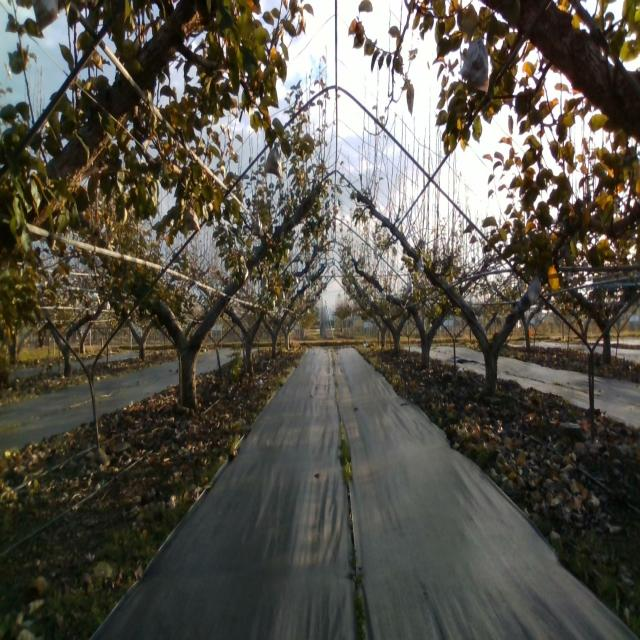pearbags: (461, 33, 489, 86), (264, 142, 282, 179), (182, 202, 200, 232), (528, 275, 542, 304), (252, 213, 264, 238)
